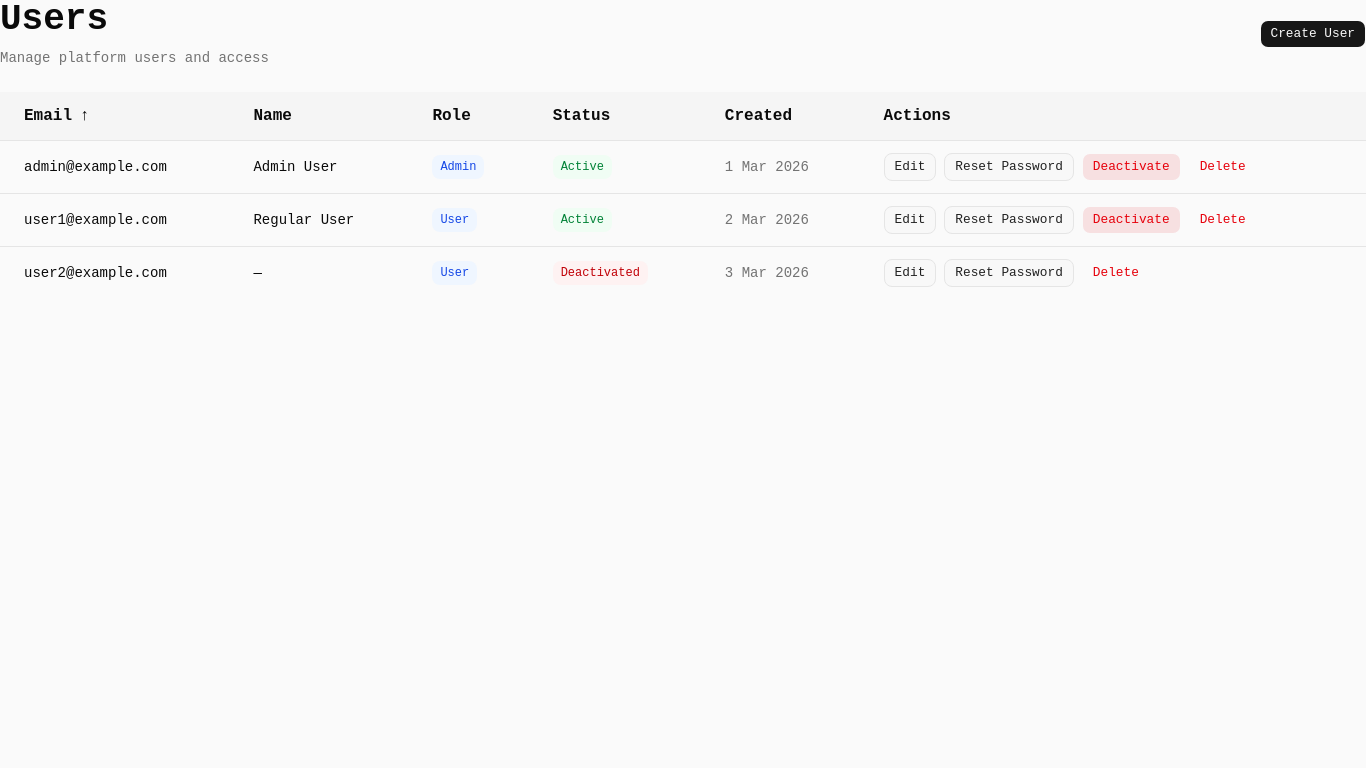
Test: SettingsUsers › create user › opens create user dialog when Create User button is clicked
This screenshot has width=1366, height=768.
Click the button "Create User" at (1313, 34), box left=1260, top=20, right=1365, bottom=48
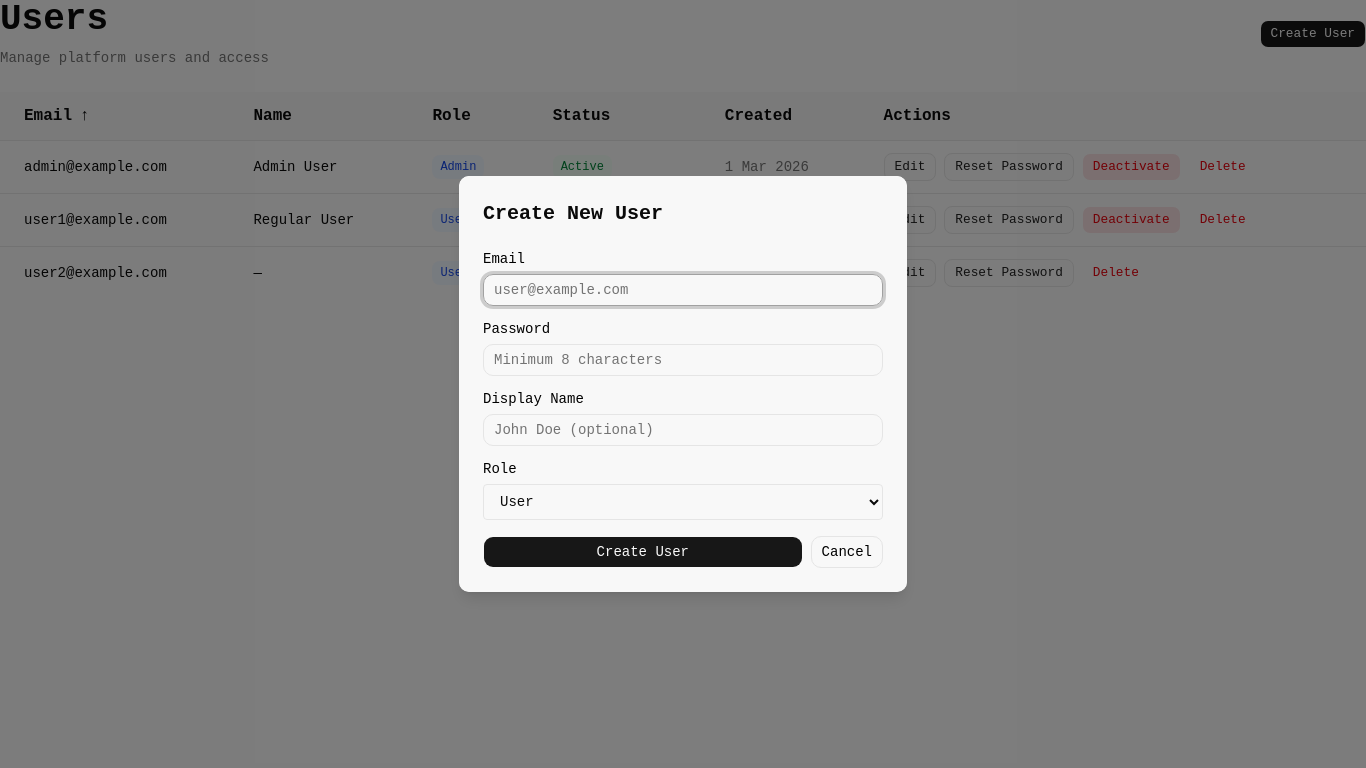
Check: the heading "Create New User" is shown, box left=483, top=202, right=663, bottom=225
